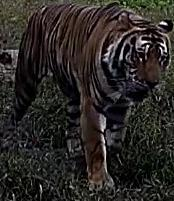tiger: (13, 2, 172, 187)
